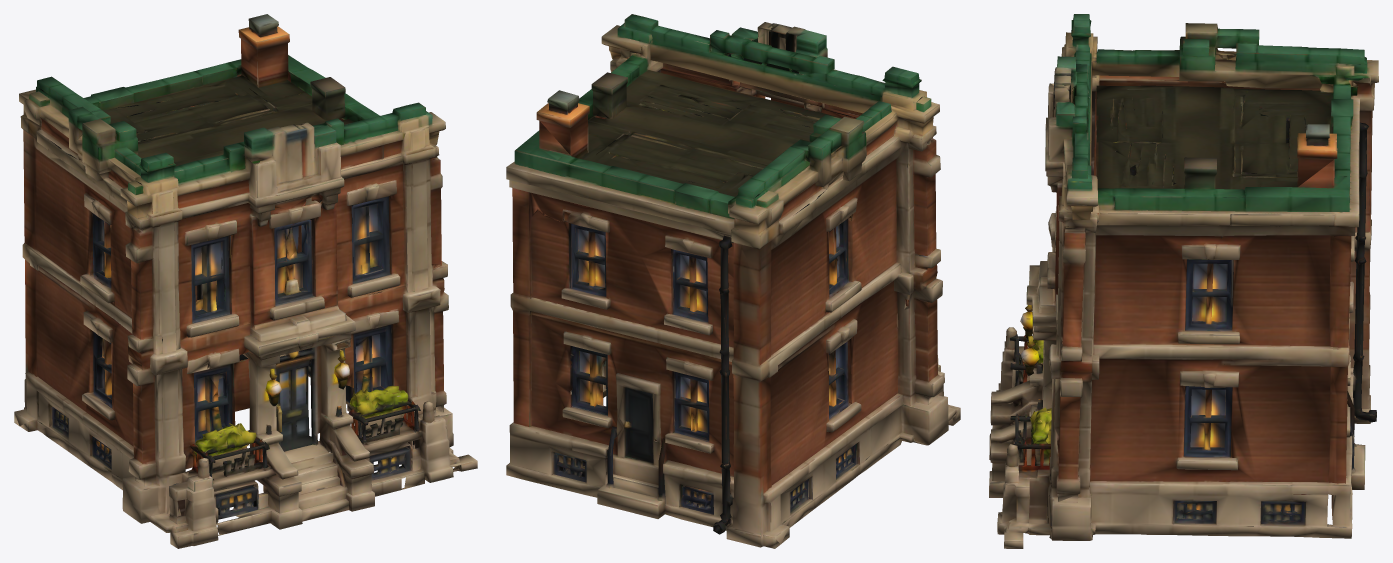
3 renders of one model, left to right at view 1: azimuth 30°, elevation 25°; view 2: azimuth 150°, elevation 25°; view 3: azimuth 270°, elevation 25°, orthographic. The views are drawn at different scales.
Visible parts, largest first — view 1: expansion__villa_2__neural_lod; view 2: expansion__villa_2__neural_lod; view 3: expansion__villa_2__neural_lod.
Boxes of the visible parts, x1,y1,x2,y2 form: expansion__villa_2__neural_lod: (14, 14, 477, 548); expansion__villa_2__neural_lod: (506, 14, 960, 548); expansion__villa_2__neural_lod: (989, 14, 1378, 548).
Bounding box in the file's own units: 0.8951 × 0.9993 × 0.8936.
1 material, 1 textured.
